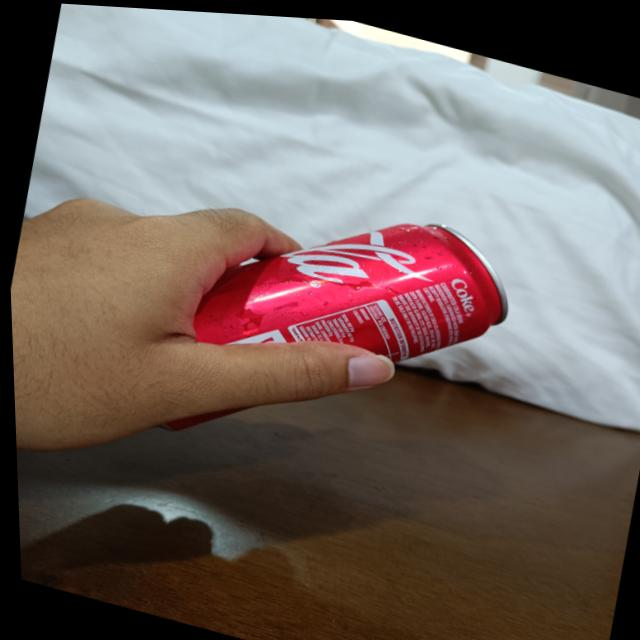coke: (102, 142, 526, 507)
